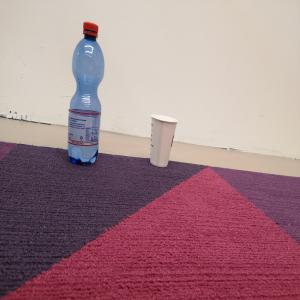Cup: (150, 115, 180, 170)
Plastic-bottle: (68, 22, 106, 168)
